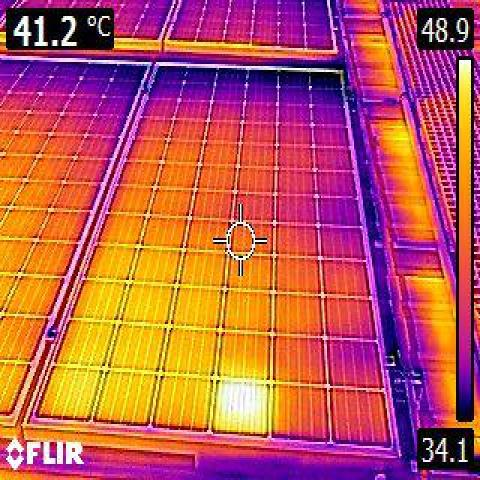fault: (217, 379, 271, 437)
